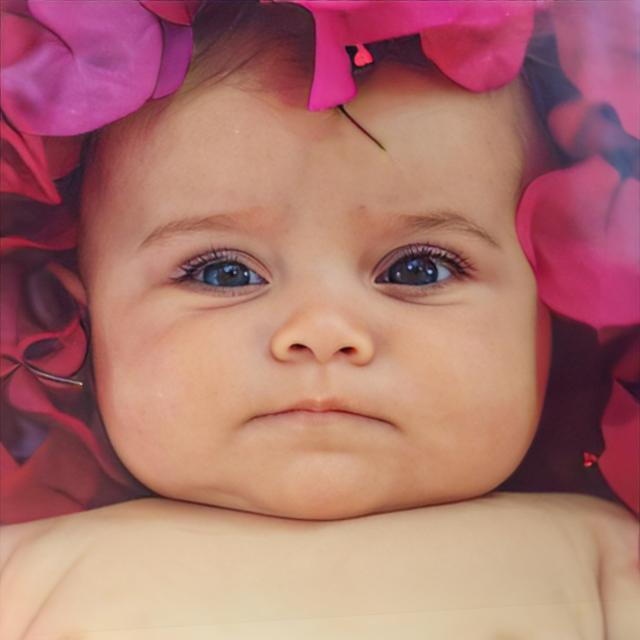neutral: (80, 6, 554, 522)
